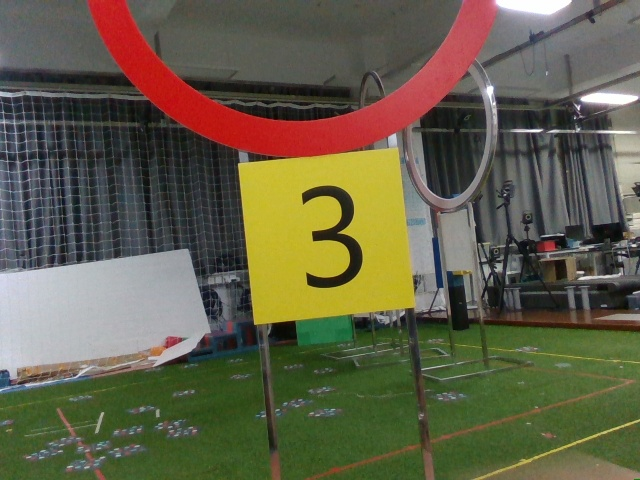target: (251, 160, 405, 308)
